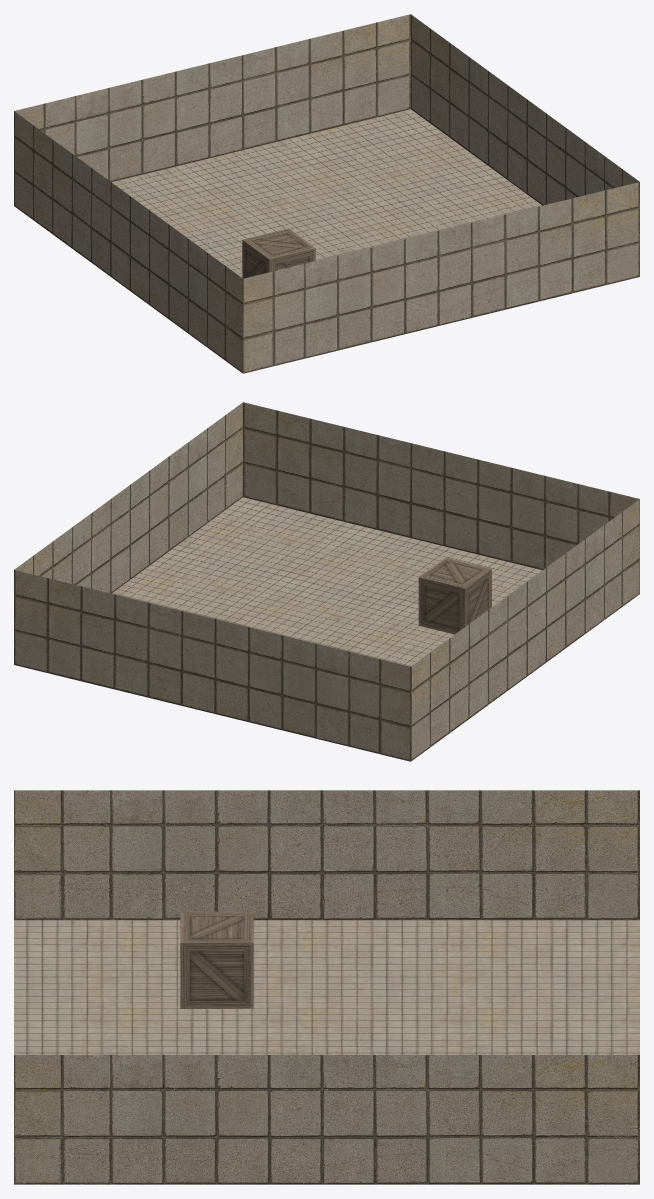
The model's file is room.glb.
3 renders of one model, top to bottom at view 1: azimuth 30°, elevation 25°; view 2: azimuth 150°, elevation 25°; view 3: azimuth 270°, elevation 25°, orthographic. The views are drawn at different scales.
Visible parts, largest first — view 1: Cube, floor, box; view 2: Cube, floor, box; view 3: Cube, floor, box.
Boxes of the visible parts, x1,y1,x2,y2 form: Cube: (14,14,639,373); floor: (112,109,541,277); box: (242,228,315,278); Cube: (14,402,639,761); floor: (112,497,541,666); box: (418,557,491,634); Cube: (14,790,639,1184); floor: (14,920,639,1054); box: (180,911,253,1008).
Size of the model in its own units: 5 by 1.15 by 5.
Materials: 2 (2 with a texture image).
